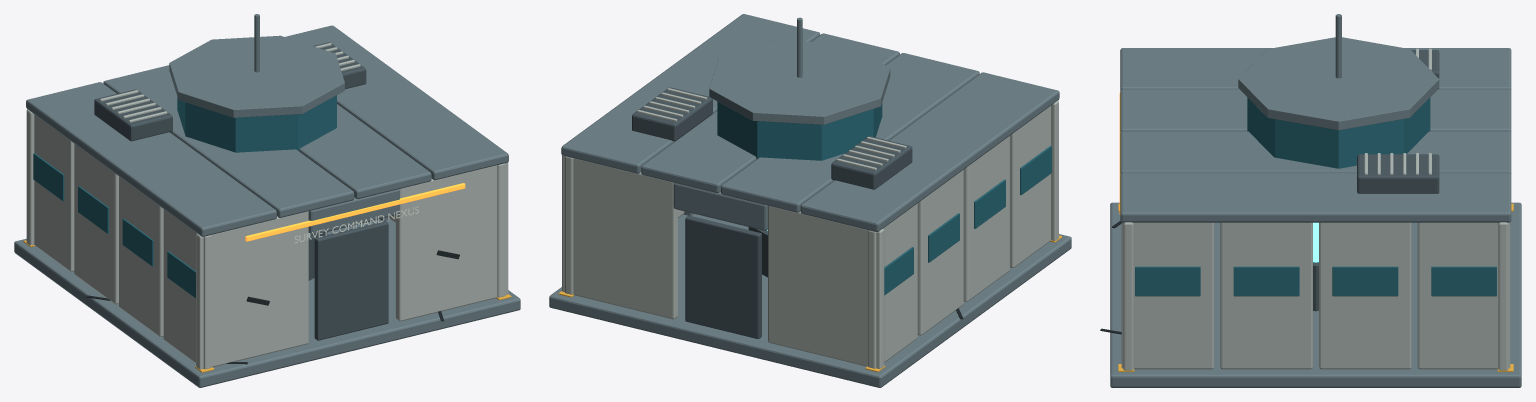
File: command_operations_d1.glb
The picture shows the model from 3 angles, left to right: view 1: azimuth 30°, elevation 25°; view 2: azimuth 150°, elevation 25°; view 3: azimuth 270°, elevation 25°; orthographic projection. The views are drawn at different scales.
Parts seen in each view (by area): view 1: End bulkhead.004, End bulkhead.005, Removable roof segment.004, Foundation.001, Crown armor.001, Removable roof segment.007, Removable roof segment.005, Sealed airlock.002, Removable roof segment.006, Observation crown.001, Side pressure panel.009, Side pressure panel.010 (+13 smaller); view 2: End bulkhead.006, End bulkhead.007, Removable roof segment.004, Foundation.001, Crown armor.001, Removable roof segment.007, Removable roof segment.005, Sealed airlock.003, Observation crown.001, Removable roof segment.006, Side pressure panel.010, Side pressure panel.009 (+11 smaller); view 3: Removable roof segment.007, Foundation.001, Crown armor.001, Side pressure panel.013, Side pressure panel.014, Removable roof segment.006, Side pressure panel.015, Side pressure panel.012, Removable roof segment.005, Removable roof segment.004, Observation crown.001, Roof heat exchanger.003 (+8 smaller).
Part boxes in pixels (x1,y1,x2,y2): End bulkhead.004: (196, 211, 308, 369); End bulkhead.005: (395, 162, 508, 321); Removable roof segment.004: (26, 82, 276, 236); Foundation.001: (14, 219, 520, 387); Crown armor.001: (169, 35, 344, 117); Removable roof segment.007: (285, 25, 508, 180); Removable roof segment.005: (103, 65, 354, 217); Sealed airlock.002: (314, 221, 388, 340); Removable roof segment.006: (299, 104, 431, 198); Observation crown.001: (177, 95, 336, 152); Side pressure panel.009: (119, 176, 163, 336); Side pressure panel.010: (74, 144, 118, 304); End bulkhead.006: (768, 205, 884, 368); End bulkhead.007: (562, 155, 677, 319); Removable roof segment.004: (800, 72, 1059, 231); Foundation.001: (549, 214, 1071, 387); Crown armor.001: (709, 40, 890, 124); Removable roof segment.007: (561, 14, 820, 173); Removable roof segment.005: (721, 53, 979, 212); Sealed airlock.003: (685, 215, 761, 338); Observation crown.001: (717, 101, 882, 160); Removable roof segment.006: (641, 33, 899, 192); Side pressure panel.010: (917, 170, 963, 335); Side pressure panel.009: (963, 136, 1009, 301); Removable roof segment.007: (1120, 173, 1511, 222); Foundation.001: (1110, 202, 1521, 387); Crown armor.001: (1238, 37, 1439, 130); Side pressure panel.013: (1220, 222, 1312, 369); Side pressure panel.014: (1319, 222, 1411, 369); Removable roof segment.006: (1120, 131, 1511, 174); Side pressure panel.015: (1417, 222, 1510, 369); Side pressure panel.012: (1121, 222, 1213, 369); Removable roof segment.005: (1120, 89, 1511, 133); Removable roof segment.004: (1120, 48, 1511, 91); Observation crown.001: (1247, 97, 1430, 168); Roof heat exchanger.003: (1357, 154, 1439, 193).
Bounding box in the file's own units: 9.09 × 6.92 × 9.22.
